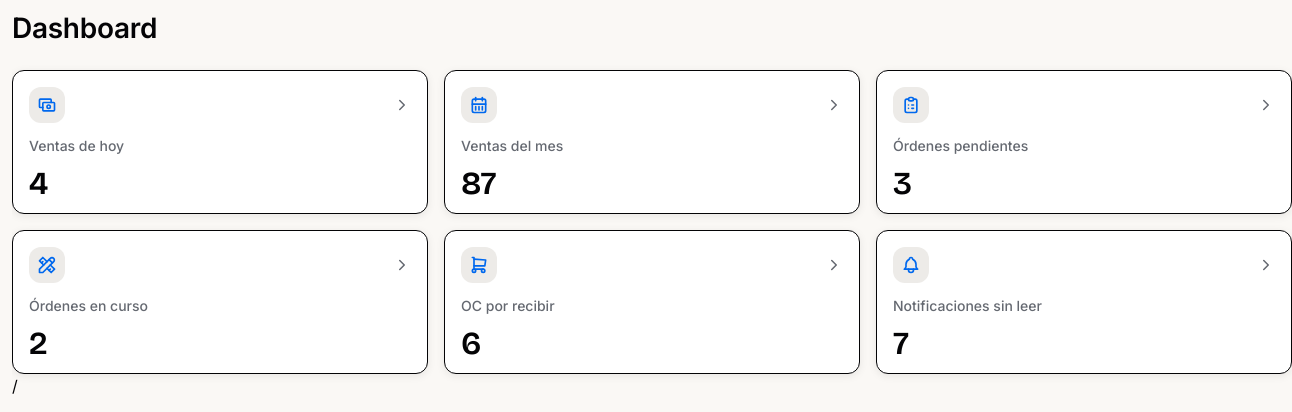
Test case: DashboardPage › navigates to /notifications when the notifications card is clicked
Click the text "Notificaciones sin leer" at (968,305), box [893, 297, 1042, 314]
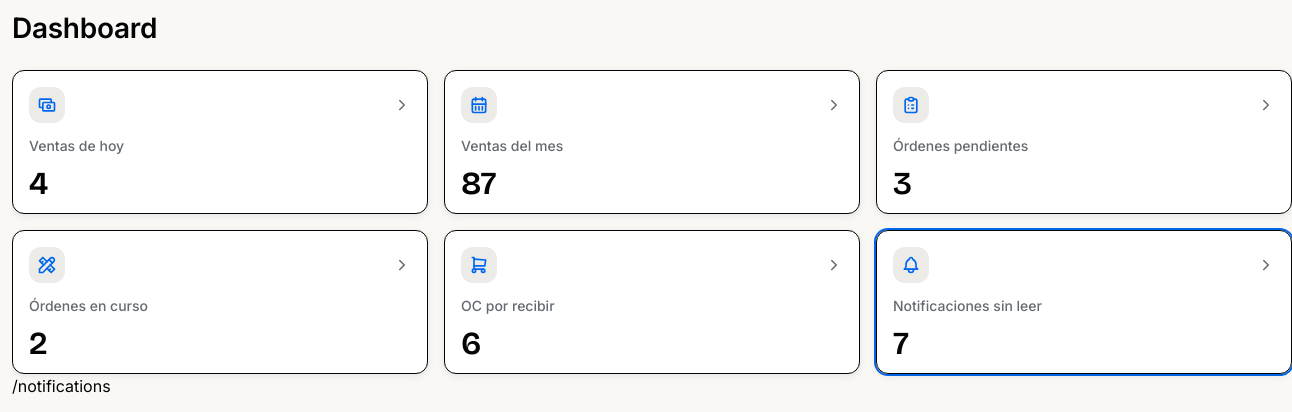
Check: the text with test id "location" reads "/notifications", box [12, 376, 111, 396]
